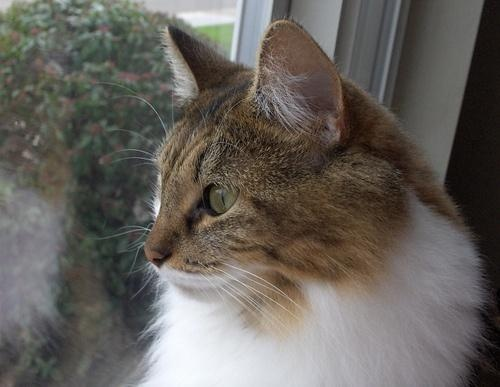cat: (143, 21, 487, 387)
